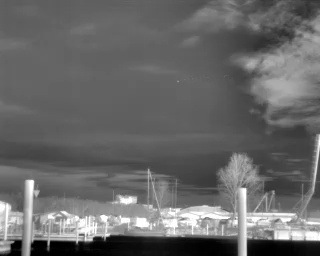BIRD: (175, 78, 181, 85)
